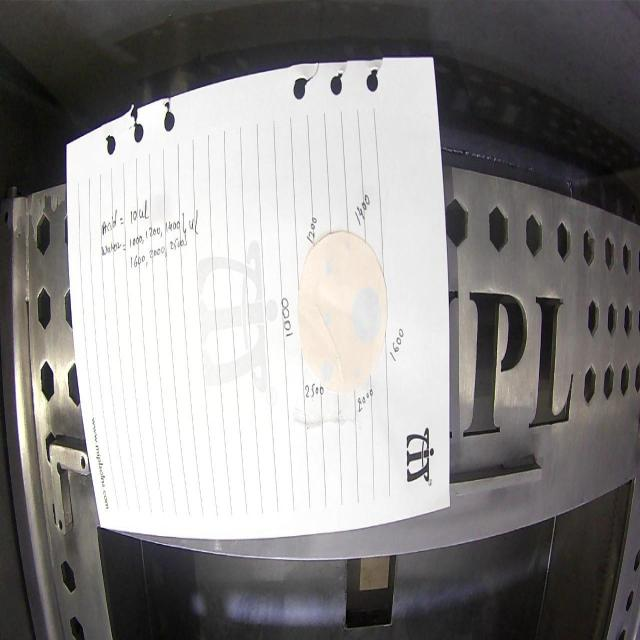BlueColor: (352, 286, 381, 341), (320, 361, 333, 383), (322, 312, 332, 327), (324, 260, 332, 276), (344, 239, 350, 251), (354, 368, 360, 378)
